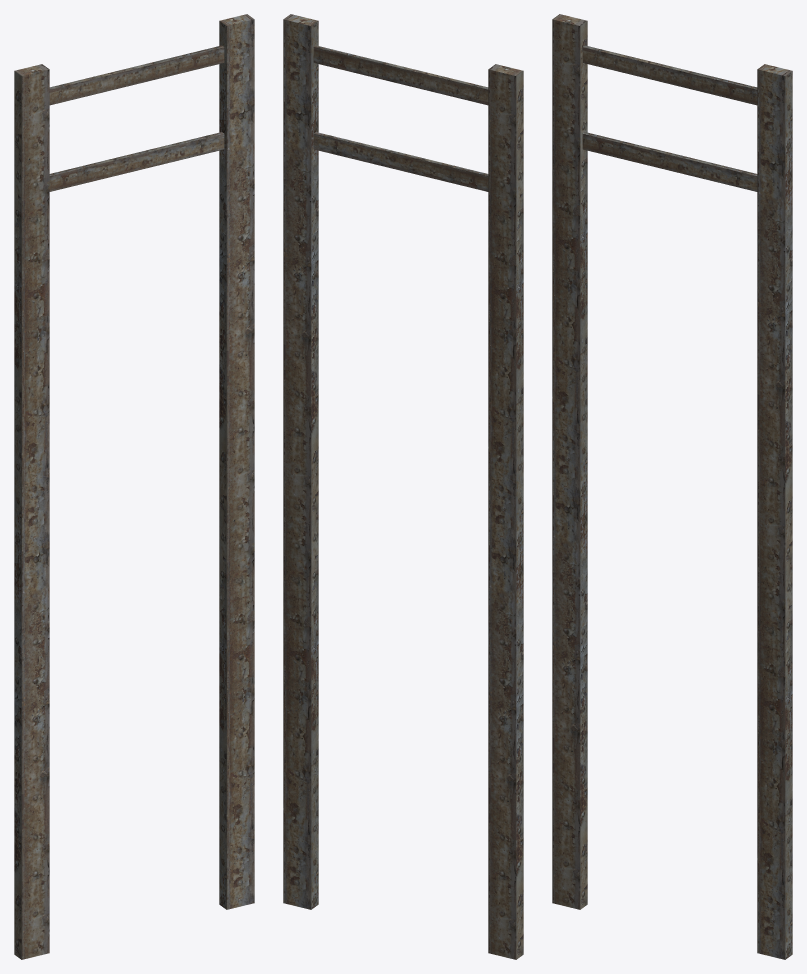
Rendered from Warning_Pole1.fbx.
3 views of the same model, side by side, from view 1: azimuth 30°, elevation 25°; view 2: azimuth 150°, elevation 25°; view 3: azimuth 330°, elevation 25° (orthographic).
Parts seen in each view (by area): view 1: polySurface400; view 2: polySurface400; view 3: polySurface400.
Part boxes in pixels (bbox=[...]): polySurface400: bbox=[14, 14, 254, 959]; polySurface400: bbox=[283, 14, 523, 959]; polySurface400: bbox=[552, 14, 792, 959].
Size of the model in its own units: 0.748 by 2.71 by 0.0407.
